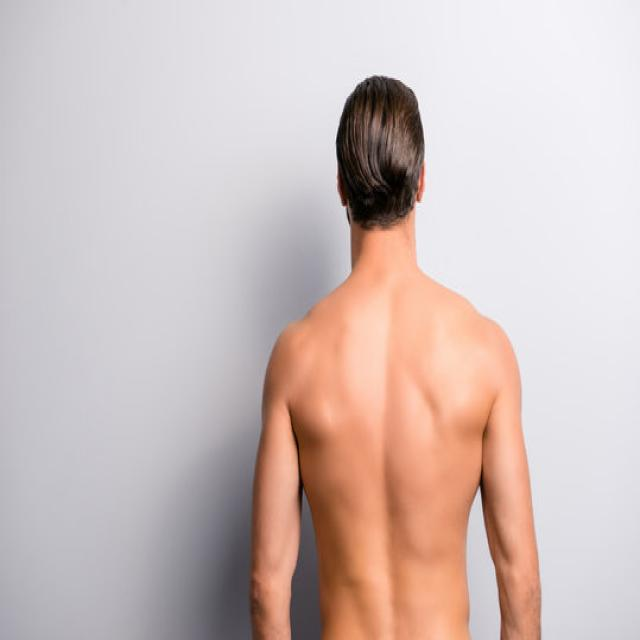Nonhelmet: (331, 61, 430, 247)
